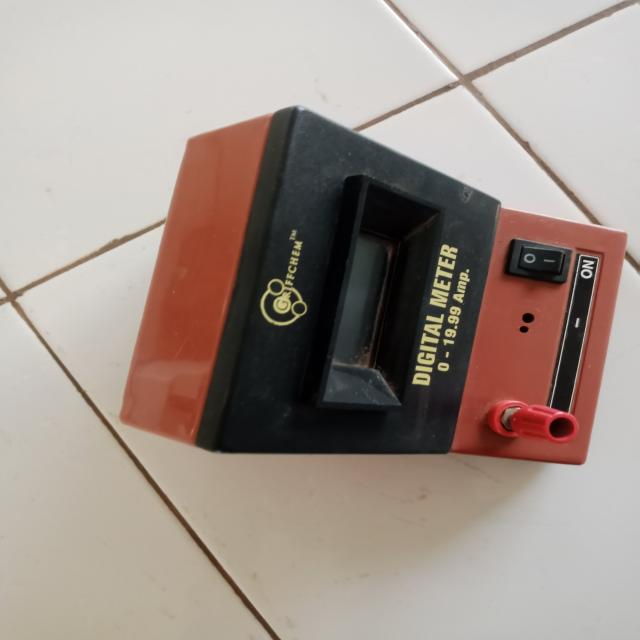Digital Ammeter: (126, 100, 632, 482)
